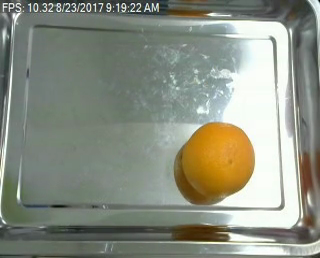Orange: (181, 121, 256, 199)
